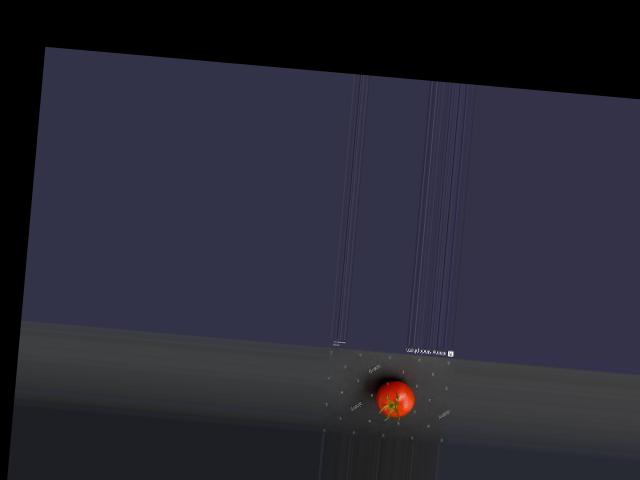tomato: (373, 380, 415, 418)
